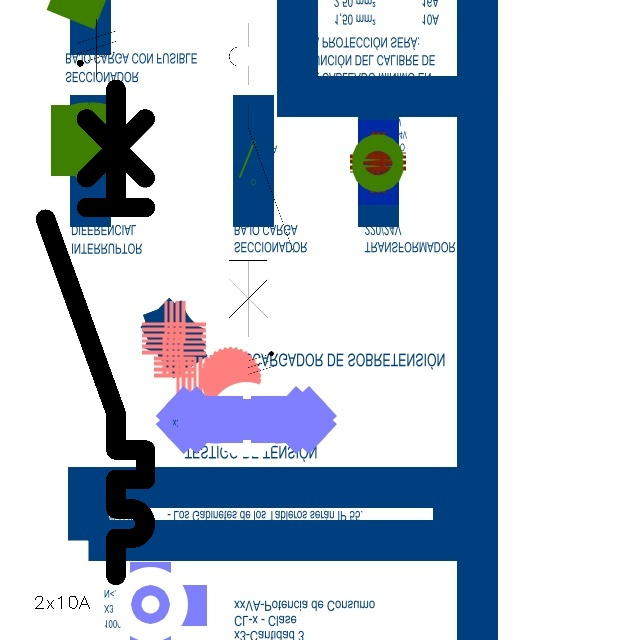interruptor_termomagnetico: (33, 76, 158, 587), (221, 15, 301, 345)
